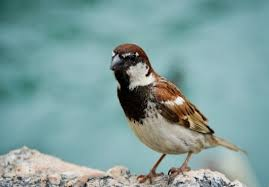hsparrow: (108, 41, 249, 181)
